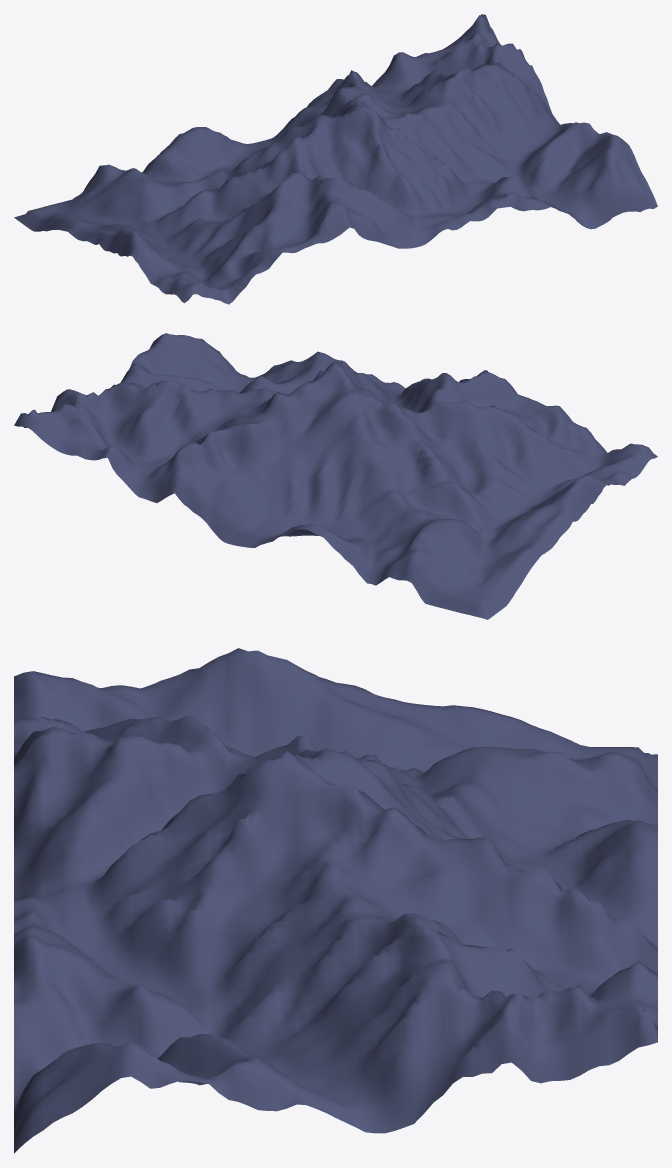
Rendered from Terrain.glb.
The picture shows the model from 3 angles, top to bottom: view 1: azimuth 30°, elevation 25°; view 2: azimuth 150°, elevation 25°; view 3: azimuth 270°, elevation 25°; orthographic projection. The views are drawn at different scales.
Parts seen in each view (by area): view 1: pPlane2.001; view 2: pPlane2.001; view 3: pPlane2.001.
Part boxes in pixels (box(x1,y1,x2,y2)): pPlane2.001: box(14, 14, 657, 304); pPlane2.001: box(14, 333, 657, 619); pPlane2.001: box(14, 648, 657, 1153).
Size of the model in its own units: 20.12 by 5.02 by 12.53.
